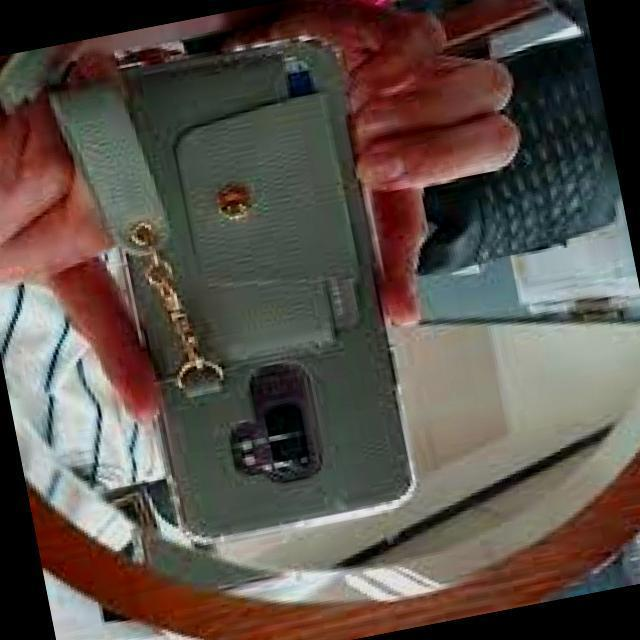lens: (260, 401, 311, 472)
phone: (97, 35, 419, 536)
